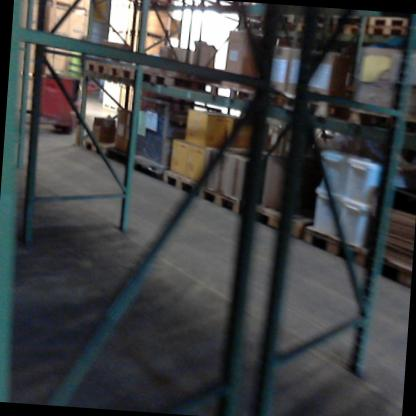pallet: (300, 221, 377, 270), (246, 196, 329, 241), (291, 95, 381, 135), (134, 61, 210, 100), (197, 185, 257, 215), (250, 88, 303, 120), (196, 78, 251, 107), (159, 167, 206, 198), (251, 18, 303, 38), (78, 134, 112, 160), (365, 21, 408, 39), (106, 59, 137, 82), (83, 55, 110, 76), (368, 16, 411, 29), (294, 11, 329, 26), (294, 22, 328, 36), (331, 23, 366, 35), (333, 15, 365, 26), (262, 11, 293, 22)
pallet_truck: (17, 66, 113, 149)
stillage: (128, 90, 204, 189)
